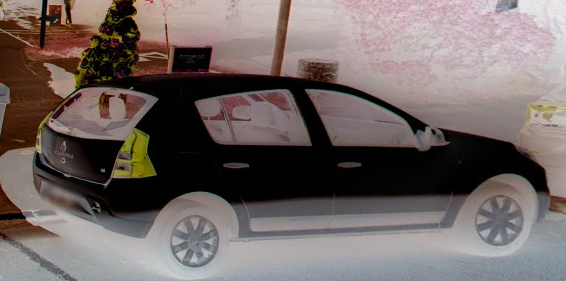car: (33, 73, 551, 277)
